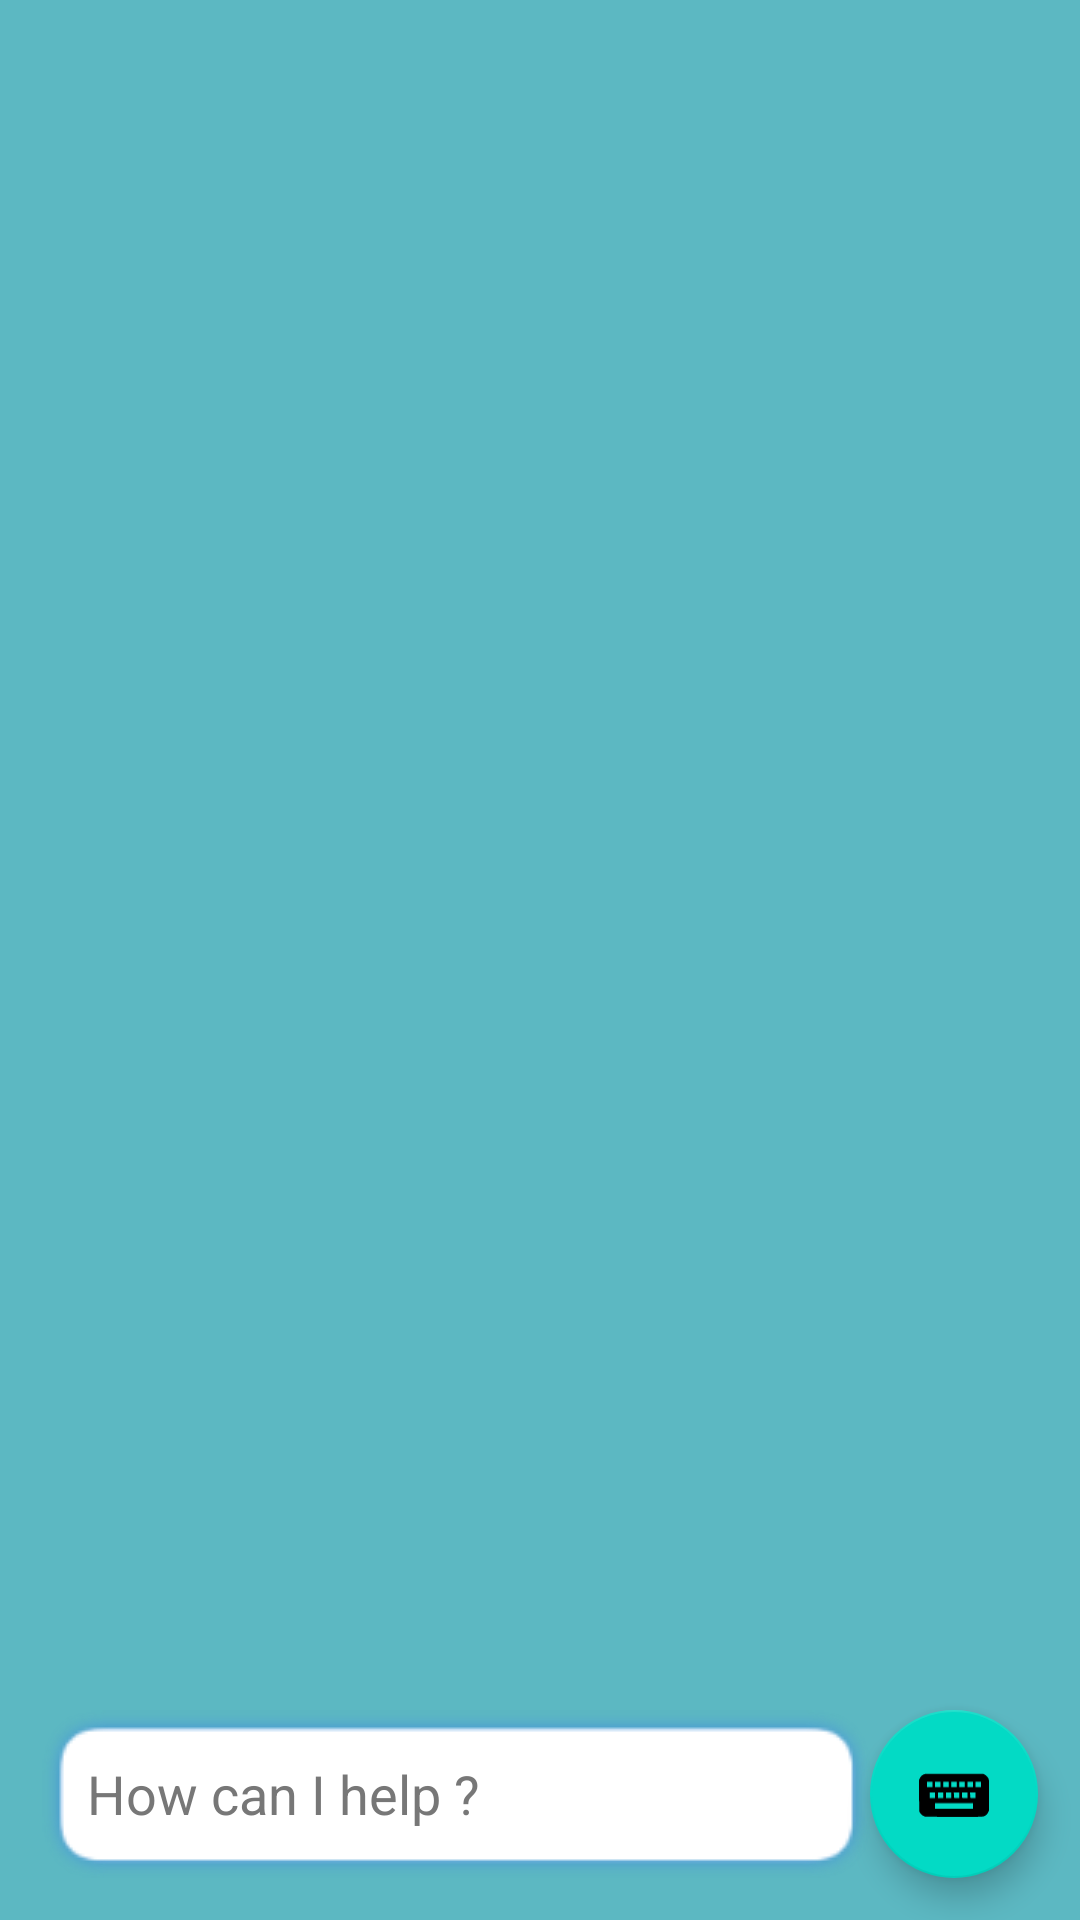

Where to tap for icons on this 1080px×1920px app screen, as (x=x, y=y):
keyboard: (x=954, y=1794)
